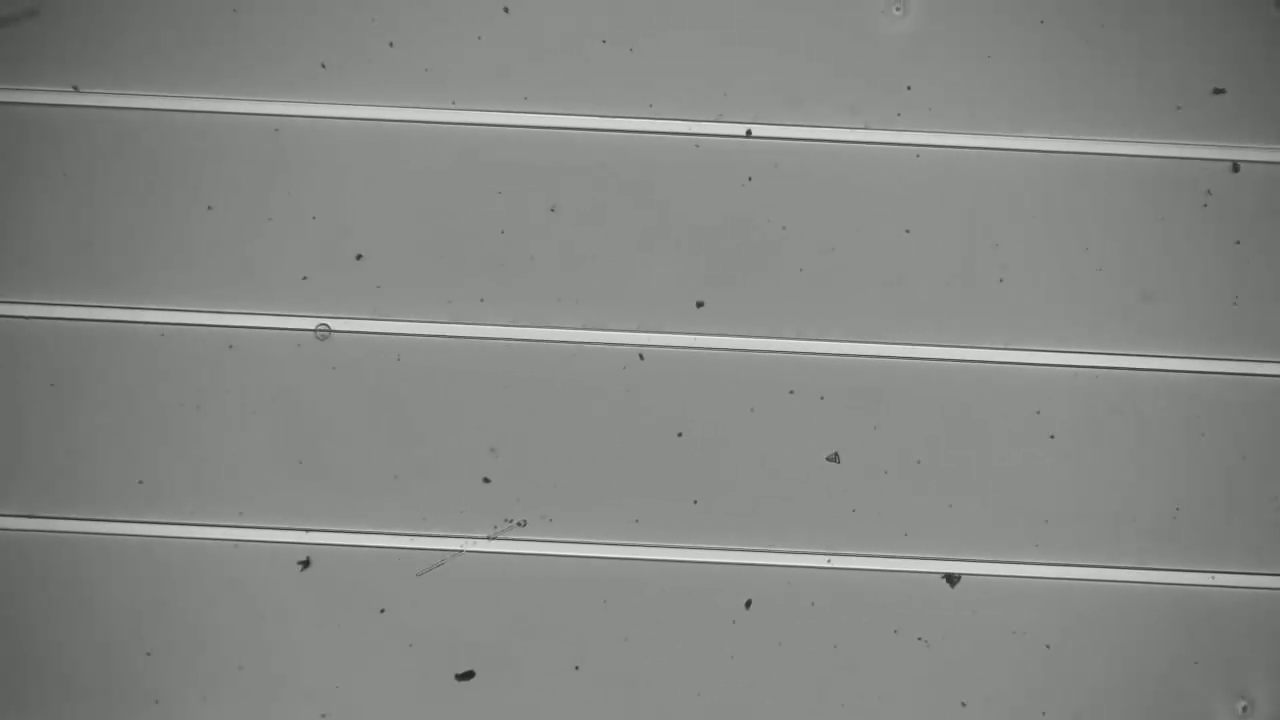stains_enbedded: (307, 312, 338, 344)
